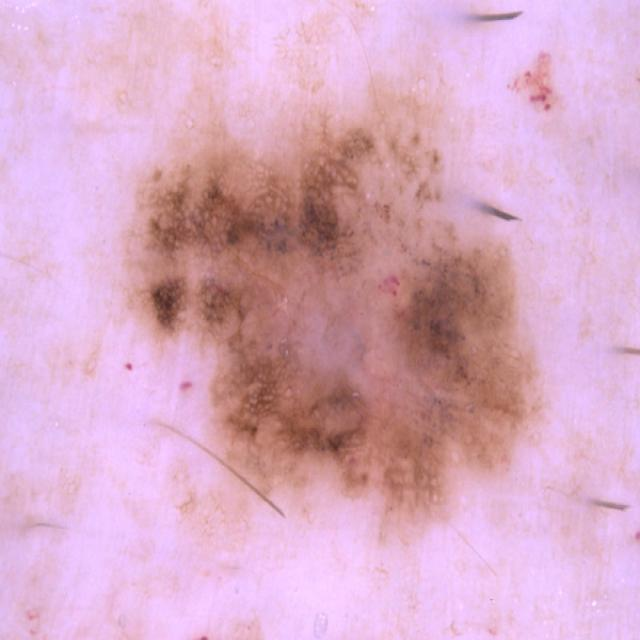NV: (141, 127, 533, 512)
